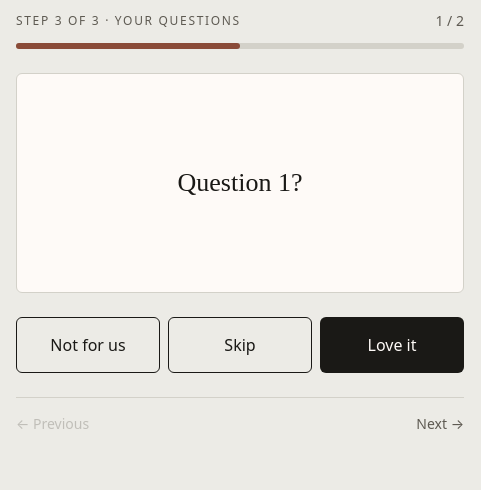
Scenario: discussion questions › keeps the current question when saving a rating fails
Step 1. Click the button "Love it" → [392, 345], box [320,317,464,373]
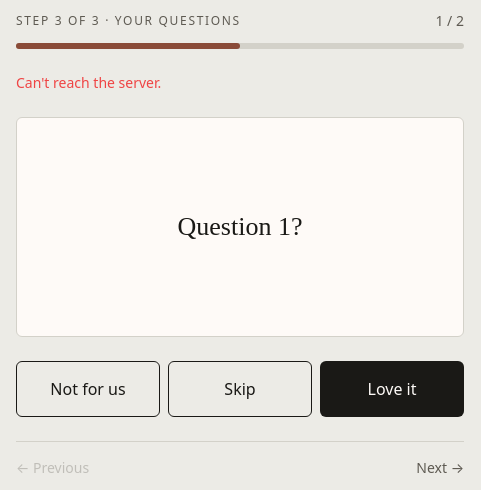
Expected: the text "Question 1?" is shown, [178,210,302,244]
Result: the text "Can't reach the server." is shown at [16,73,161,92]
